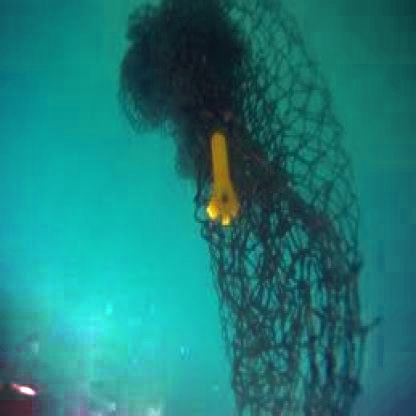net: (127, 2, 364, 416)
